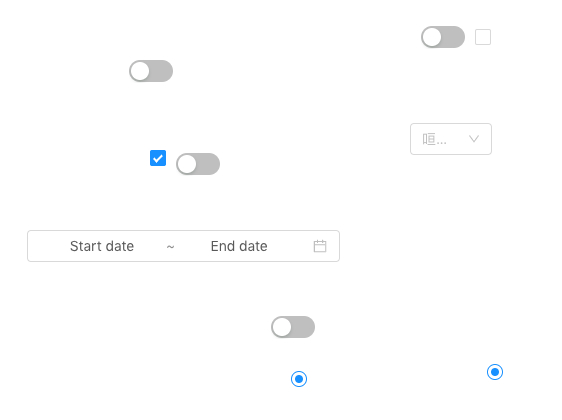Checkbox: (475, 26, 491, 47), (150, 147, 166, 168)
Radio: (291, 368, 307, 388), (487, 361, 503, 381)
RangePicker: (27, 230, 340, 262)
Select: (410, 123, 492, 155)
Switch: (129, 59, 173, 83), (421, 25, 465, 49), (176, 152, 220, 176), (271, 315, 315, 339)
